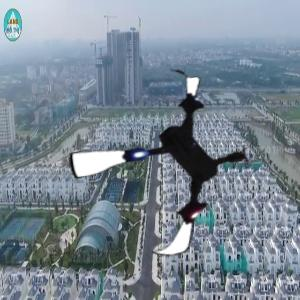drone: (66, 68, 261, 263)
